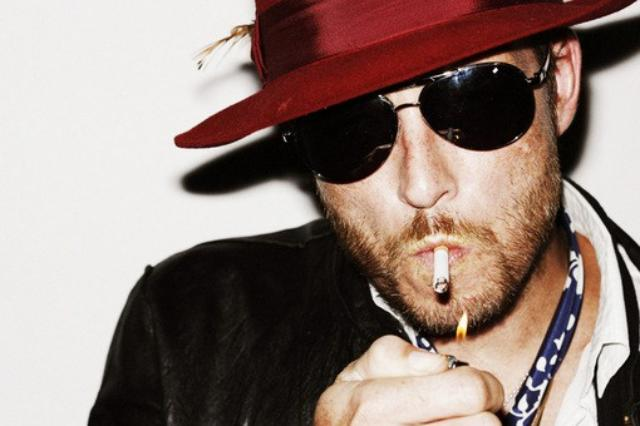Cigarette: (430, 243, 452, 298)
